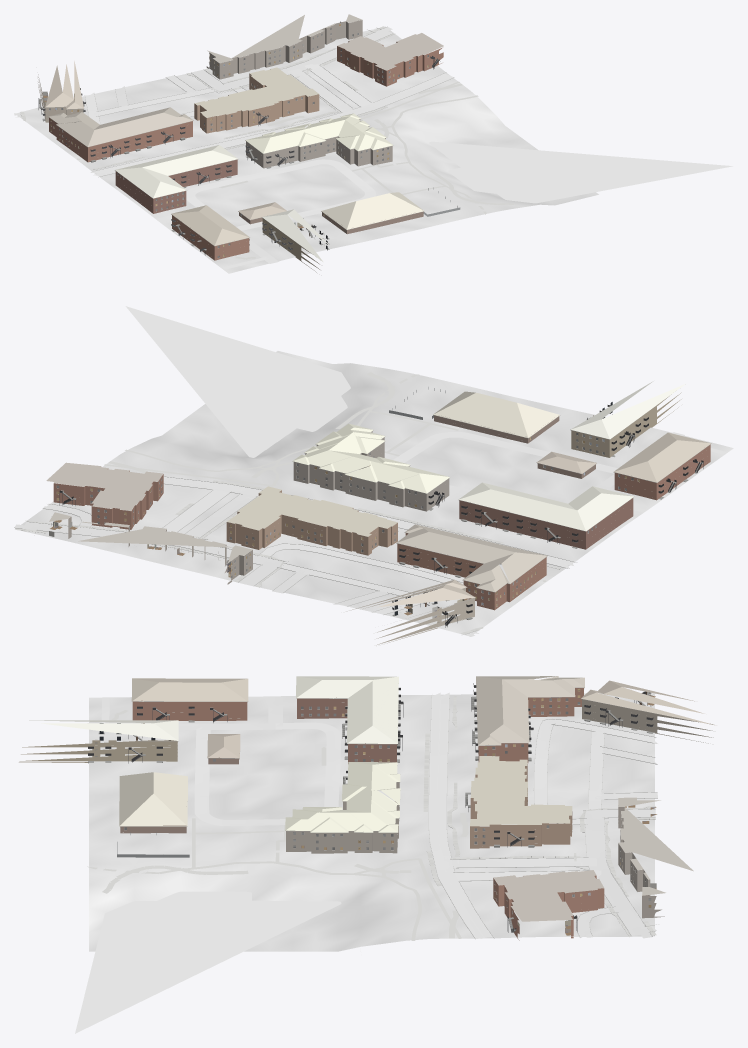
3 views of the same model, one above another, from view 1: azimuth 30°, elevation 25°; view 2: azimuth 150°, elevation 25°; view 3: azimuth 270°, elevation 25° (orthographic). The views are drawn at different scales.
Visible parts, largest first — view 1: ground, roof, wall, water, concrete, walk, detail, asphalt, curb, rail, glass; view 2: ground, roof, wall, water, concrete, walk, detail, curb, asphalt, rail, glass; view 3: ground, roof, wall, water, concrete, walk, asphalt, detail, curb, rail, glass.
Part boxes in pixels (x1,y1,x2,y2): ground: [17, 26, 598, 273]; roof: [45, 14, 443, 261]; wall: [38, 20, 443, 272]; water: [429, 141, 732, 203]; concrete: [85, 27, 392, 269]; walk: [20, 26, 513, 259]; detail: [38, 26, 457, 257]; asphalt: [14, 73, 453, 175]; curb: [20, 26, 454, 177]; rail: [38, 56, 439, 250]; glass: [49, 28, 428, 257]; ground: [15, 351, 733, 635]; roof: [46, 381, 710, 611]; wall: [53, 392, 710, 645]; water: [125, 306, 350, 457]; concrete: [14, 432, 725, 614]; walk: [16, 372, 560, 634]; detail: [51, 387, 711, 627]; curb: [14, 476, 576, 634]; asphalt: [156, 477, 573, 636]; rail: [59, 405, 703, 625]; glass: [57, 432, 633, 622]; ground: [89, 693, 654, 951]; roof: [29, 676, 716, 921]; wall: [19, 688, 713, 940]; water: [75, 891, 360, 1033]; concrete: [87, 696, 657, 938]; walk: [87, 696, 656, 940]; asphalt: [429, 691, 654, 938]; detail: [88, 685, 685, 932]; curb: [428, 695, 658, 938]; rail: [88, 683, 653, 931]; glass: [95, 698, 651, 913].
Bounding box in the file's own units: 340 × 23.54 × 318.
